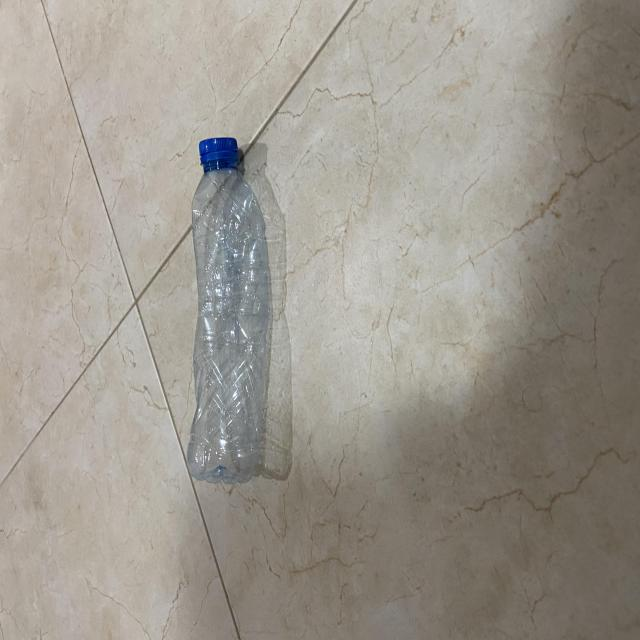plastic: (185, 128, 278, 496)
